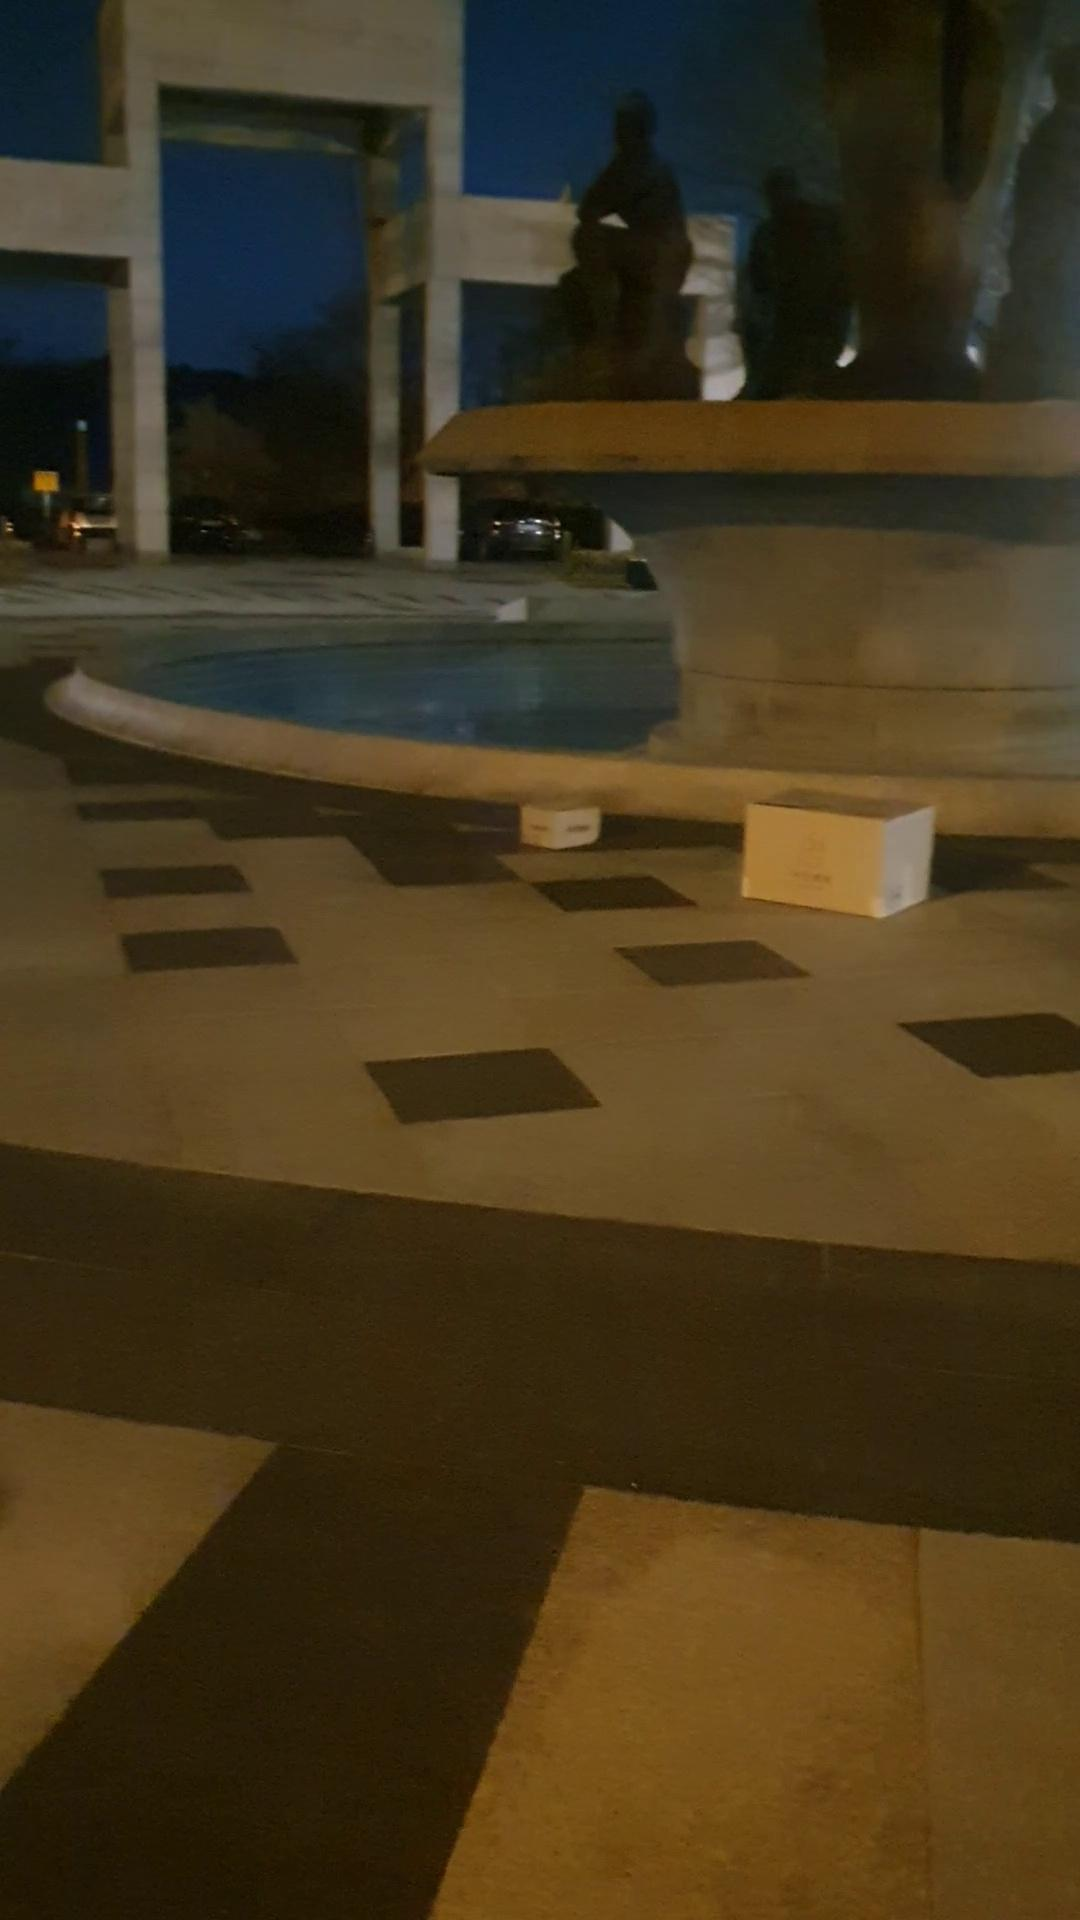Box: (736, 775, 945, 922), (513, 785, 612, 851)
